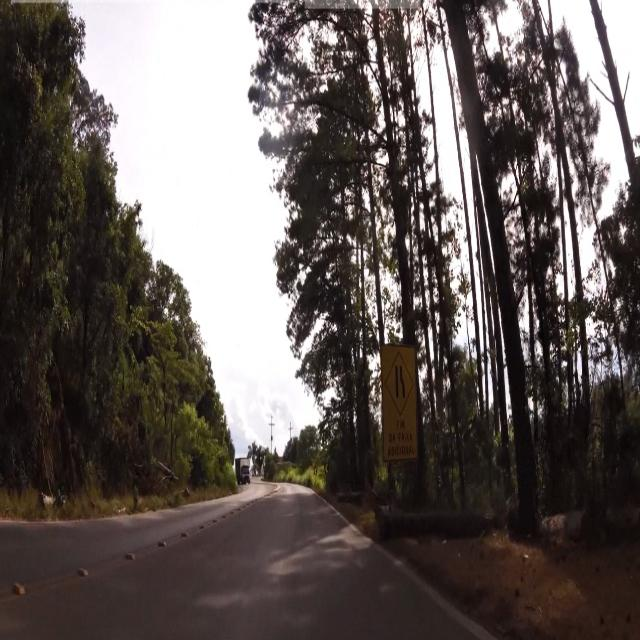A-21c: (386, 345, 418, 423)
